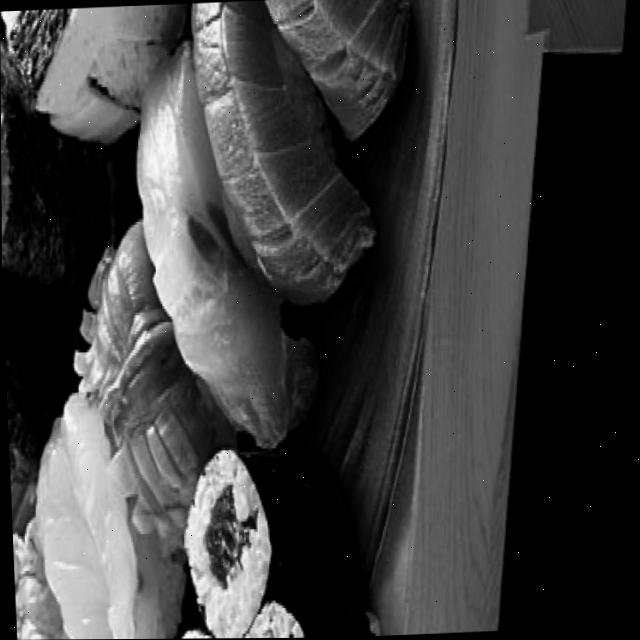寿司卷物: (0, 0, 439, 640)
